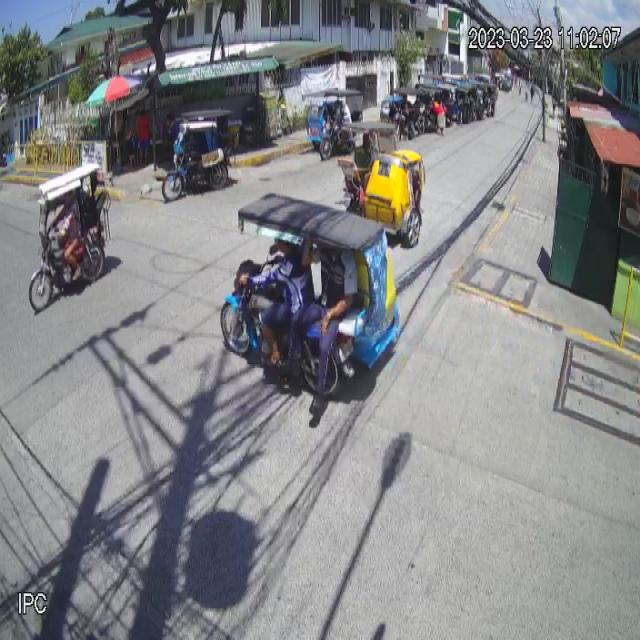Tricycle: (220, 191, 404, 402), (28, 162, 113, 314), (337, 122, 426, 249), (161, 109, 229, 206)
